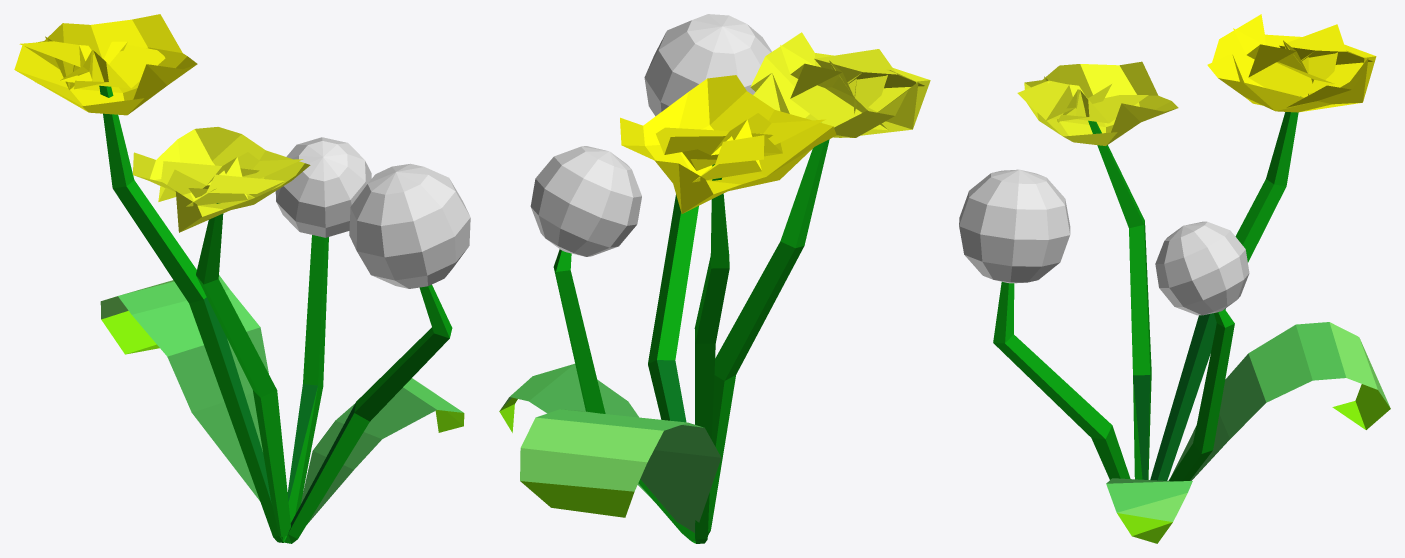
File: dandelions.fbx
3 views of the same model, side by side, from view 1: azimuth 30°, elevation 25°; view 2: azimuth 150°, elevation 25°; view 3: azimuth 270°, elevation 25° (orthographic). The views are drawn at different scales.
Parts seen in each view (by area): view 1: stem, leaves, high flower head, big puff, low flower head, small puff; view 2: stem, leaves, high flower head, low flower head, small puff, big puff; view 3: stem, leaves, high flower head, big puff, low flower head, small puff.
Part boxes in pixels (left/top/right/bottom): stem: left=99, top=85, right=452, bottom=543; leaves: left=100, top=275, right=464, bottom=524; high flower head: left=14, top=14, right=197, bottom=115; big puff: left=349, top=163, right=470, bottom=288; low flower head: left=132, top=127, right=310, bottom=232; small puff: left=275, top=137, right=371, bottom=237; stem: left=553, top=139, right=829, bottom=543; leaves: left=499, top=363, right=721, bottom=532; high flower head: left=620, top=75, right=836, bottom=213; low flower head: left=750, top=32, right=930, bottom=137; small puff: left=530, top=146, right=641, bottom=256; big puff: left=644, top=14, right=771, bottom=116; stem: left=993, top=96, right=1300, bottom=481; leaves: left=1106, top=322, right=1390, bottom=543; high flower head: left=1207, top=14, right=1376, bottom=112; big puff: left=959, top=169, right=1070, bottom=283; low flower head: left=1017, top=61, right=1178, bottom=145; small puff: left=1155, top=221, right=1249, bottom=315.
Size of the model in its own units: 17.66 by 21.87 by 19.56.
